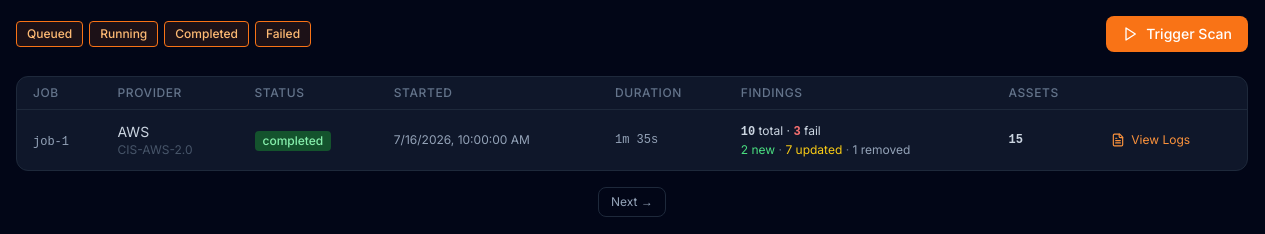
Test: ScansPage › shows a Next page button when a cursor is returned, and fetches the next page
Click the button "Next →" at (632, 202), box [598,187,666,217]
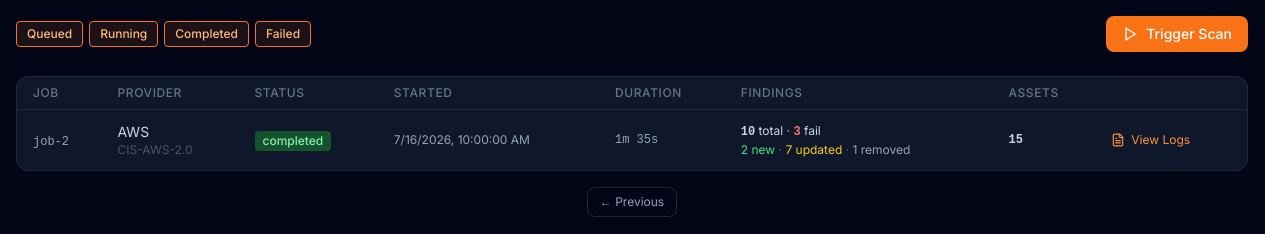
Expected: the button "Next" is gone
Expected: the button "← Previous" is shown, [587,187,677,217]
